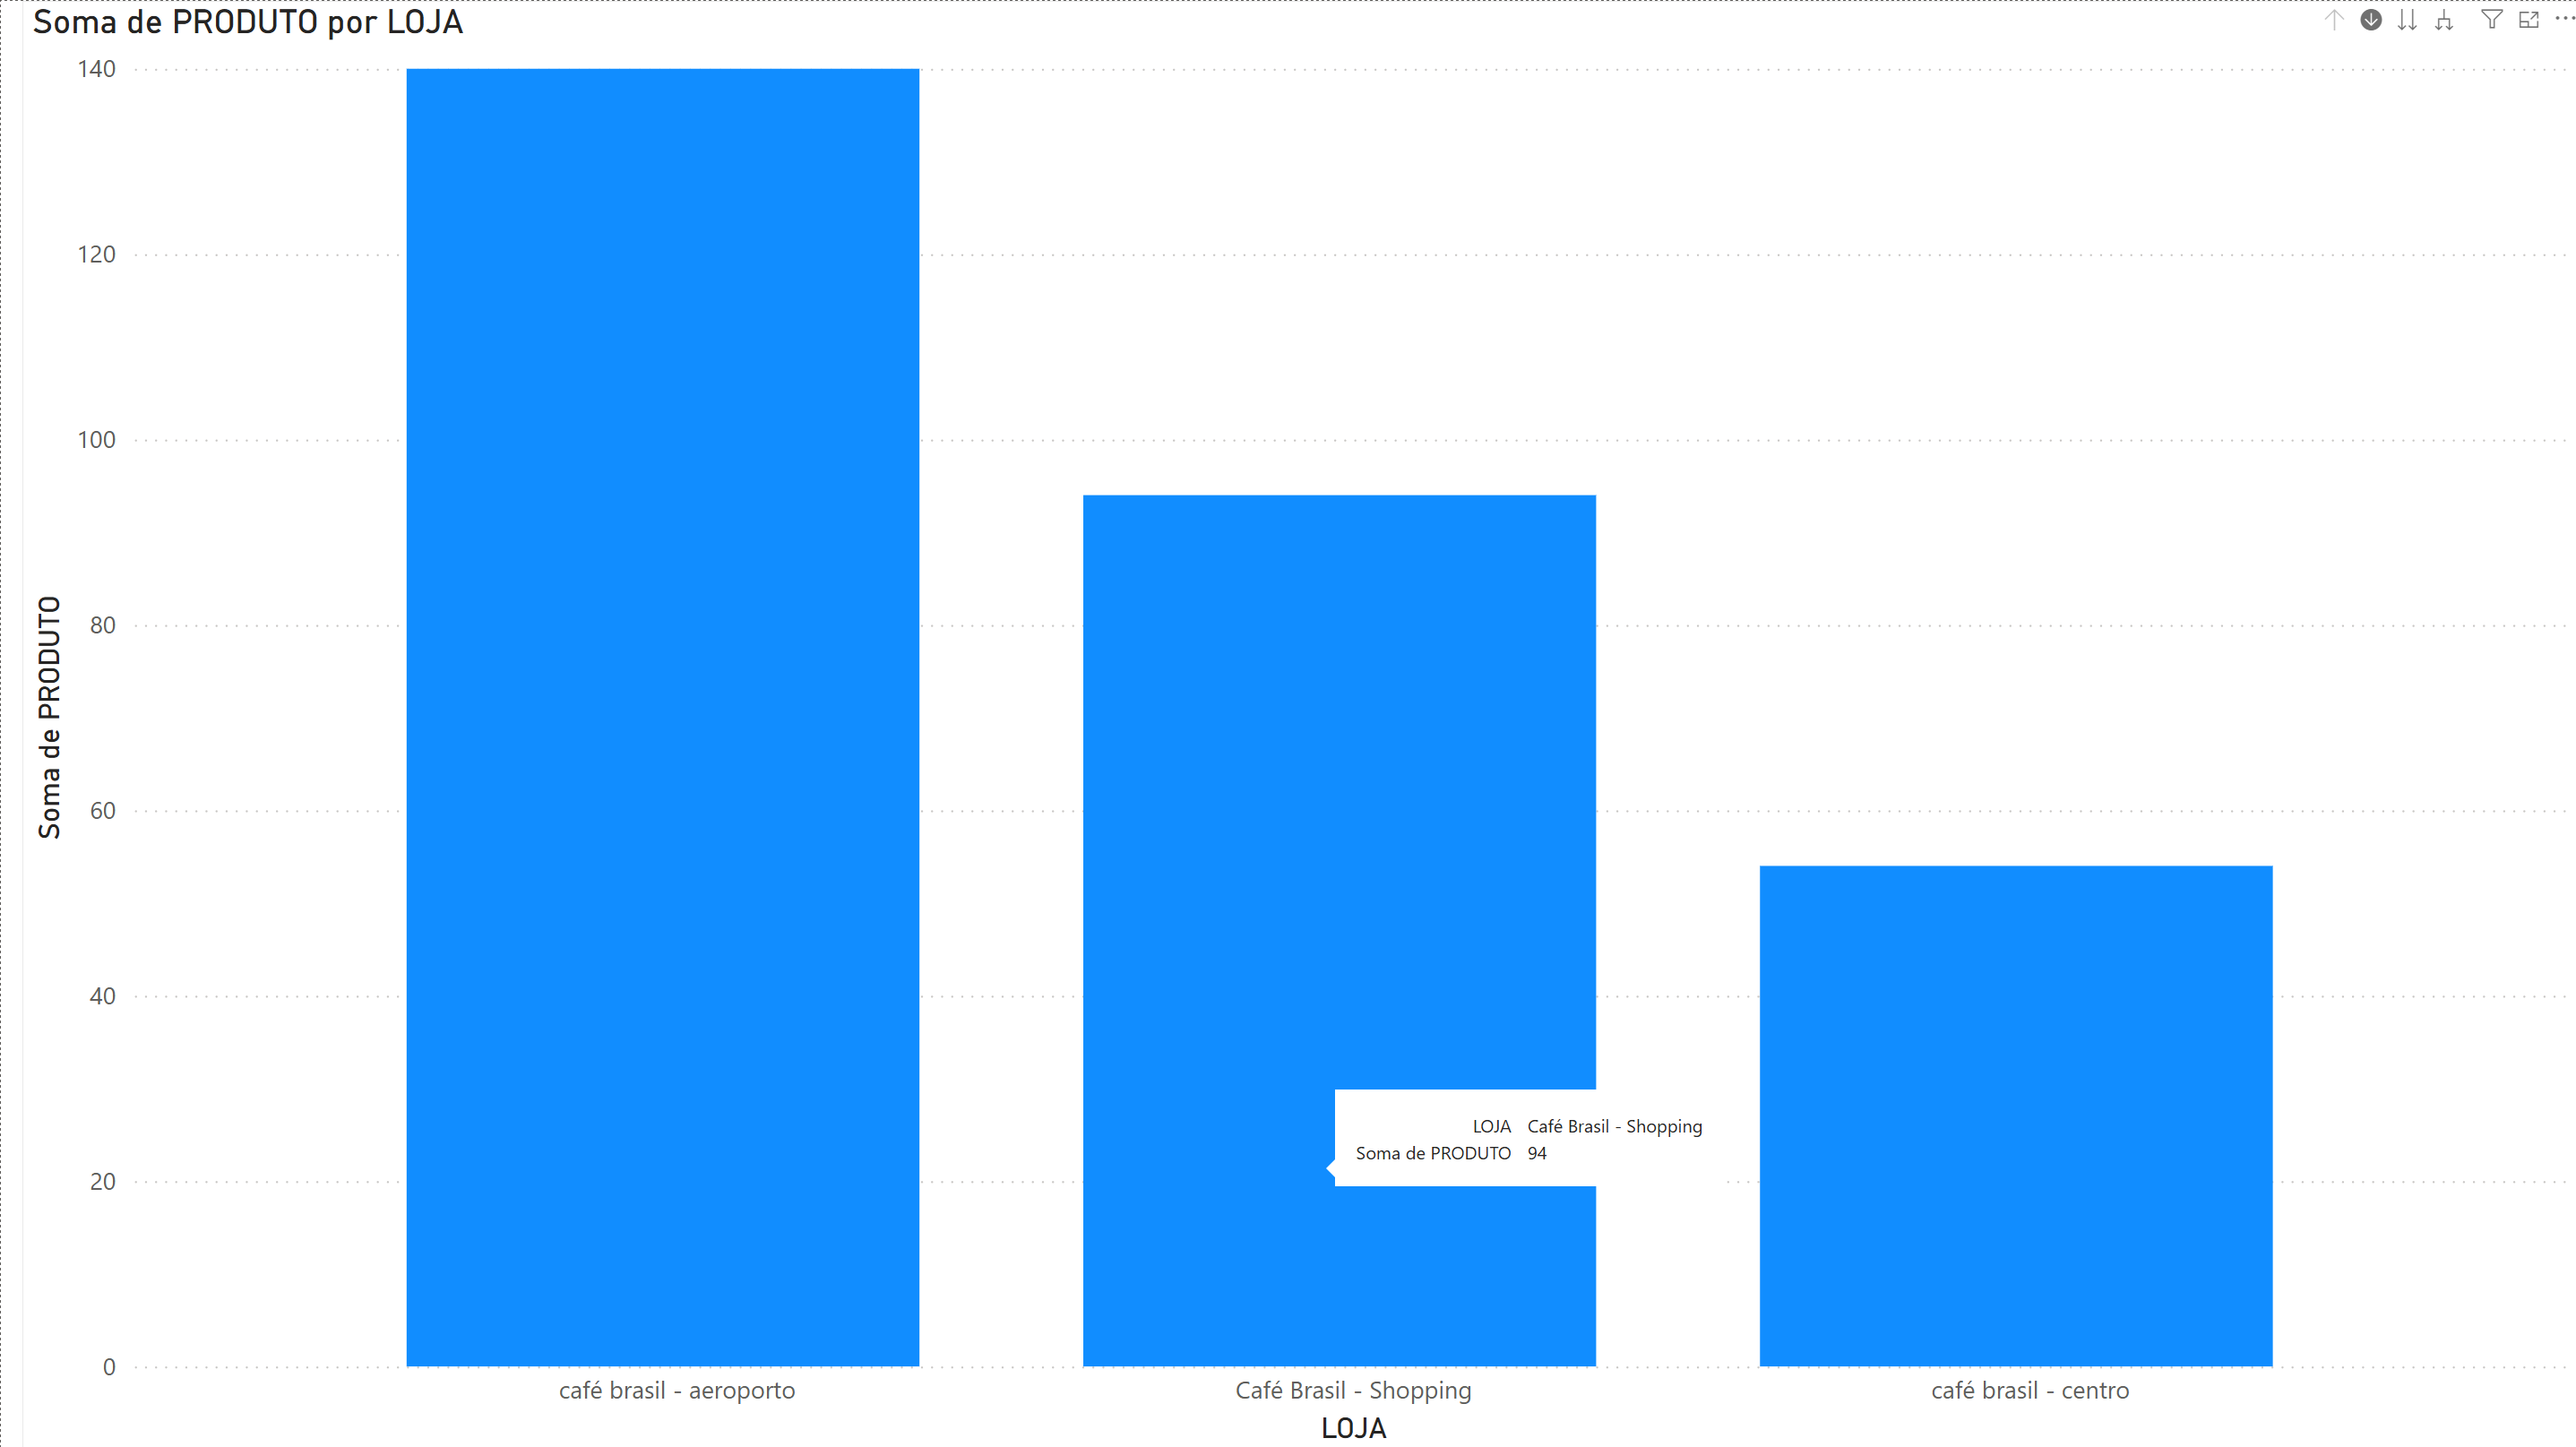

What the dashboard file says about the page in this screenshot:
{"tool":"powerbi","page":{"name":"Página 1","canvas":[1280,720],"ordinal":0},"visuals":[{"type":"columnChart","fields":{"Category":["public dim_loja.nome","public dim_produto.nome"],"Y":["Sum(public fato_vendas.quantidade)"]},"box":[10.7,0,1269.6,720.7],"z":0}]}

Visuals, with their boxes on the page's 1280x720 design canvas (x1, y1, x2, y2). These are canvas units, not pixel positions in the 2576x1447 screenshot, which may show the page scaled, cropped or inside an application window:
columnChart - public dim_loja.nome x public dim_produto.nome: locate(11, 0, 1280, 721)
